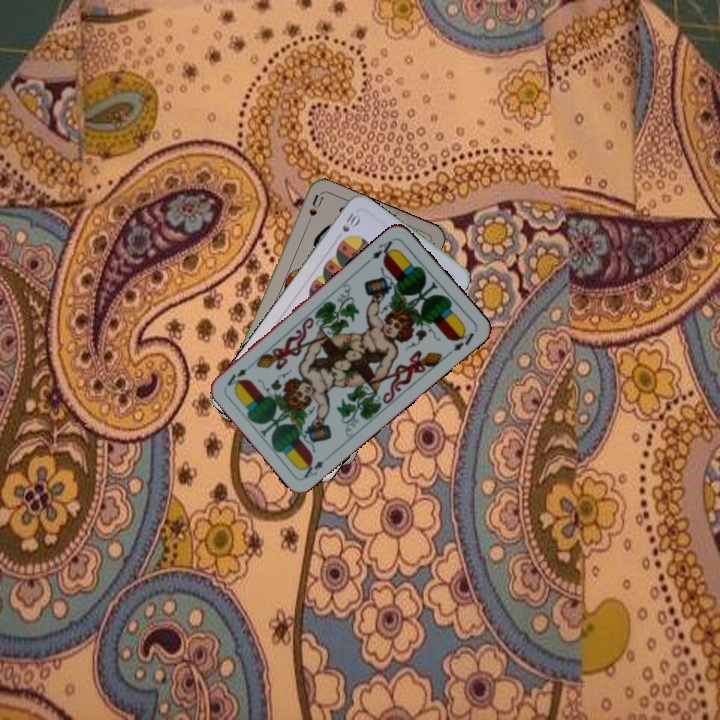EA: (297, 451, 333, 481), (368, 235, 398, 263)
S10: (338, 208, 362, 235)
SU: (301, 191, 326, 231)
